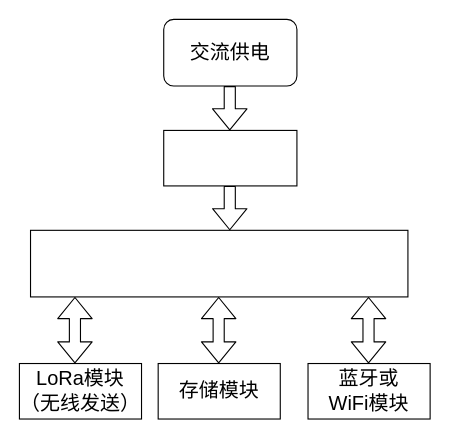
The diagram is 450 pixels wide and 438 high, and some of its shapes have lost their labels. The shapes that lost their labels are listed below. From the top down, each one's centre as x and y in pixels, then its label:
At point (230, 157): "电源模块".
At point (218, 263): "核心控制模块".
